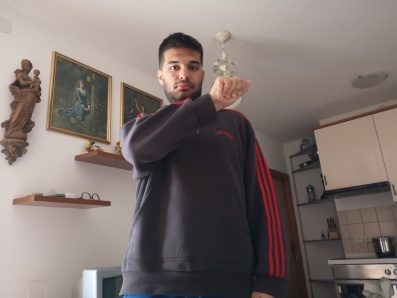A: (209, 73, 254, 108)
